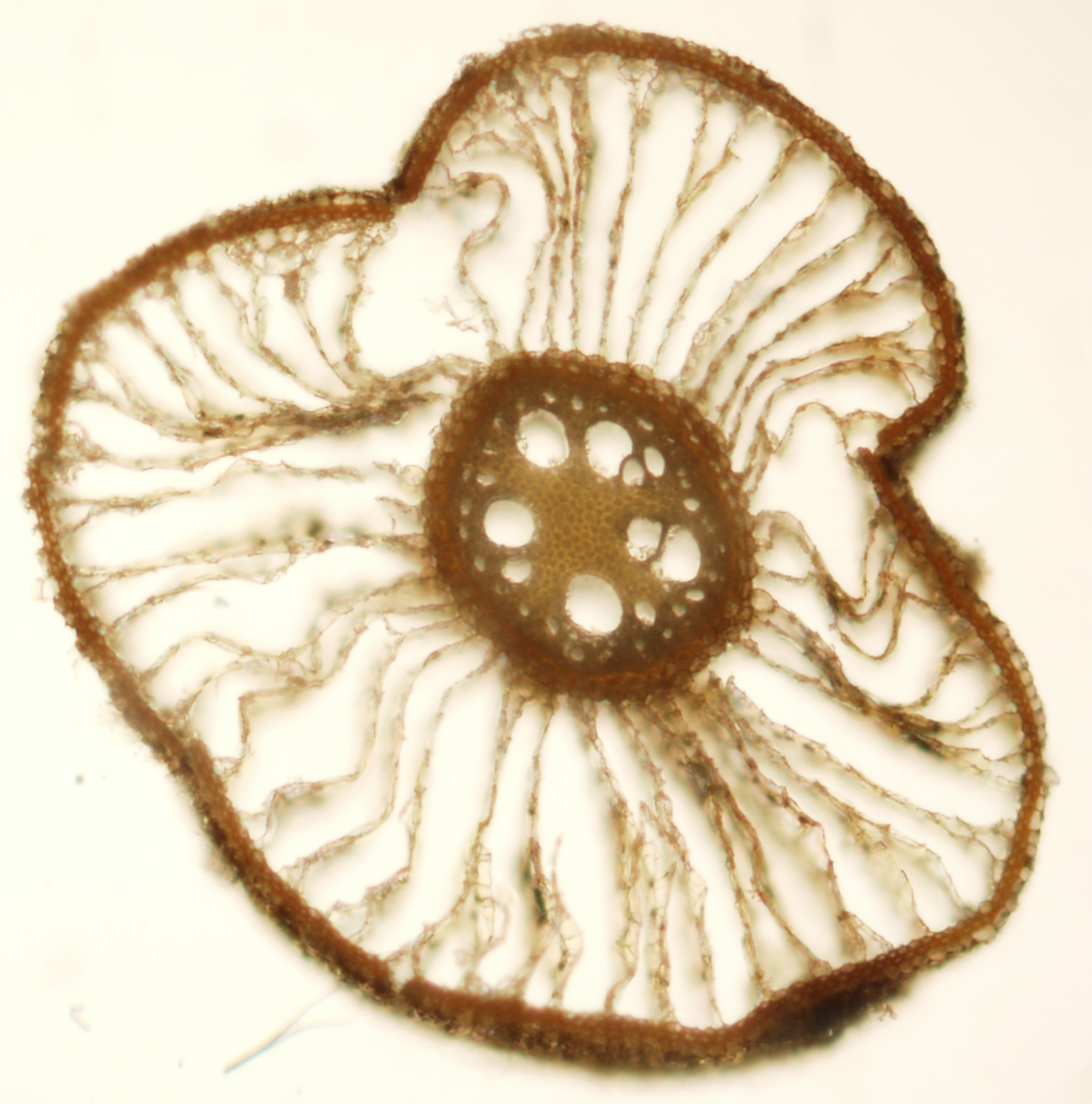lm: (584, 421, 666, 487), (626, 516, 700, 582), (483, 499, 536, 584), (565, 573, 623, 633), (513, 408, 570, 468)
